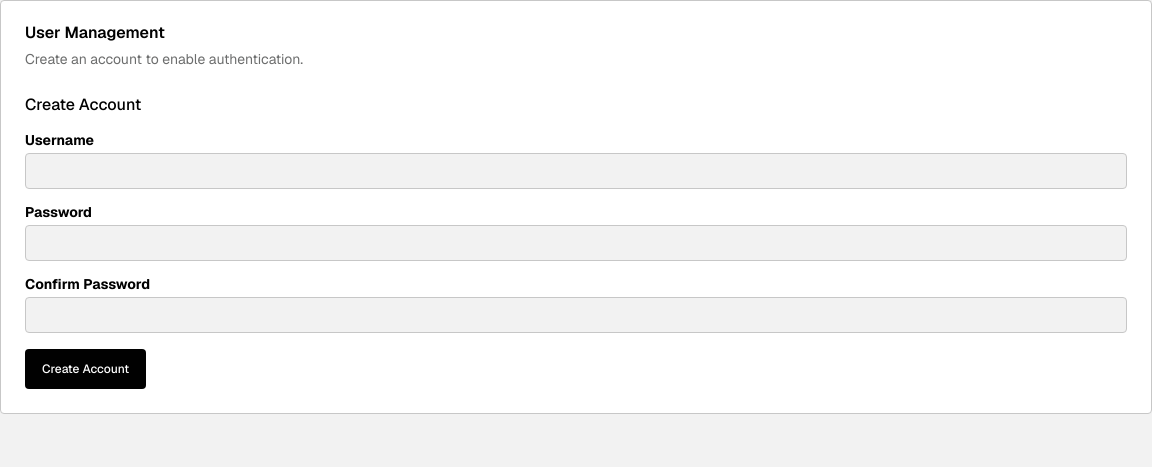
UserManagementSection › no users (setup state) › shows error when username already exists
Type "admin" into the field labelled "Username" at (576, 171), box [25,153,1127,189]
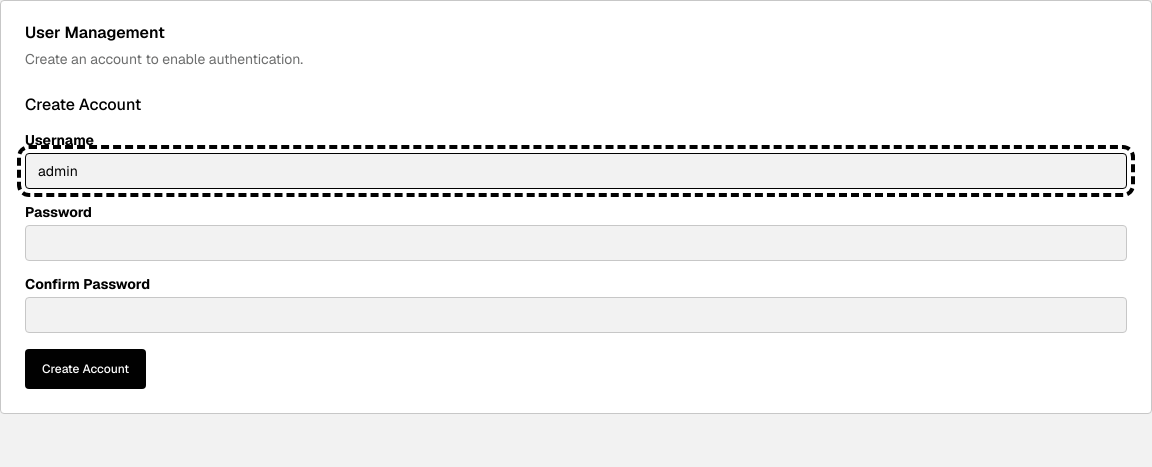
Type "password123" into the password field labelled "Password" at (576, 243), box [25,225,1127,261]
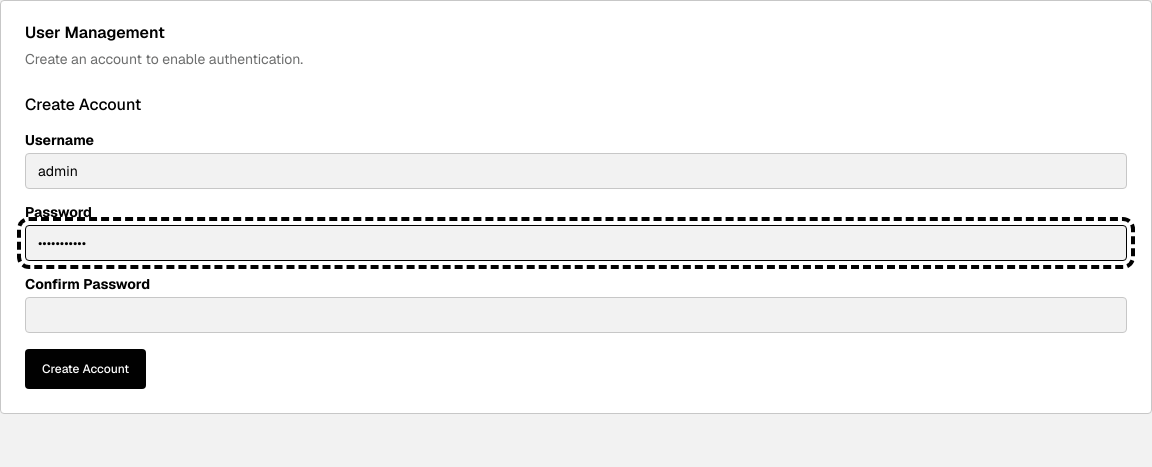
Type "password123" into the password field labelled "Confirm Password" at (576, 315), box [25,297,1127,333]
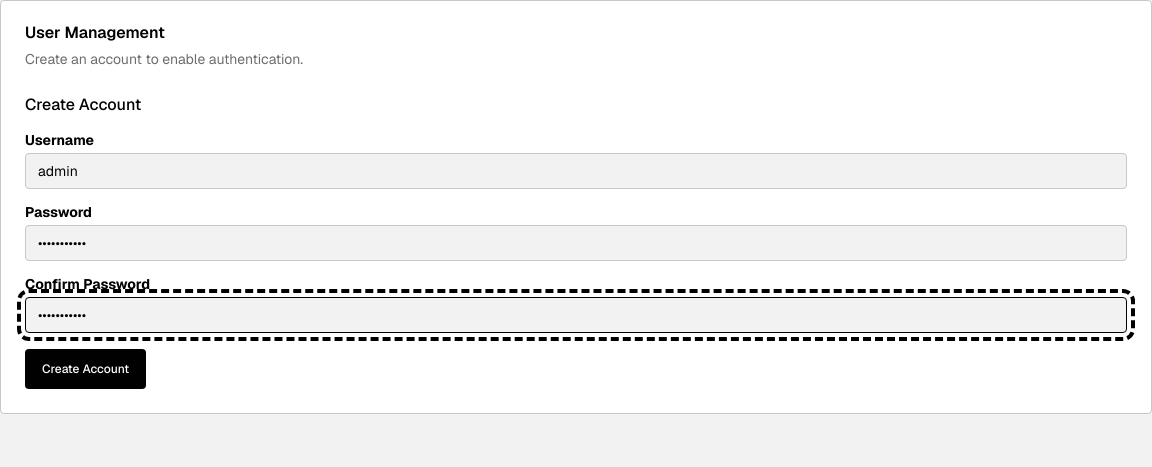
Click the button "Create Account" at (86, 369), box [25,349,146,389]
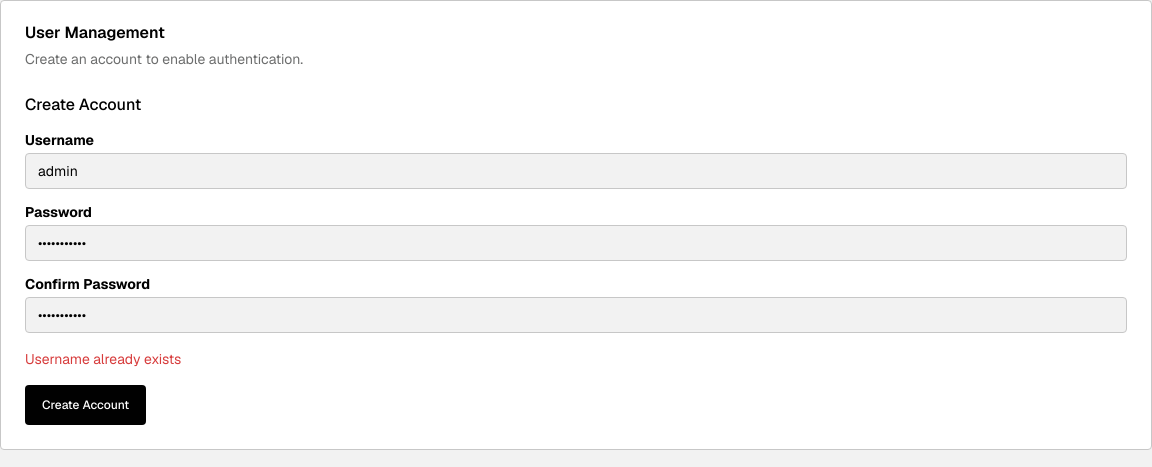
Result: the text "Username already exists" is shown at [25,350,181,368]
